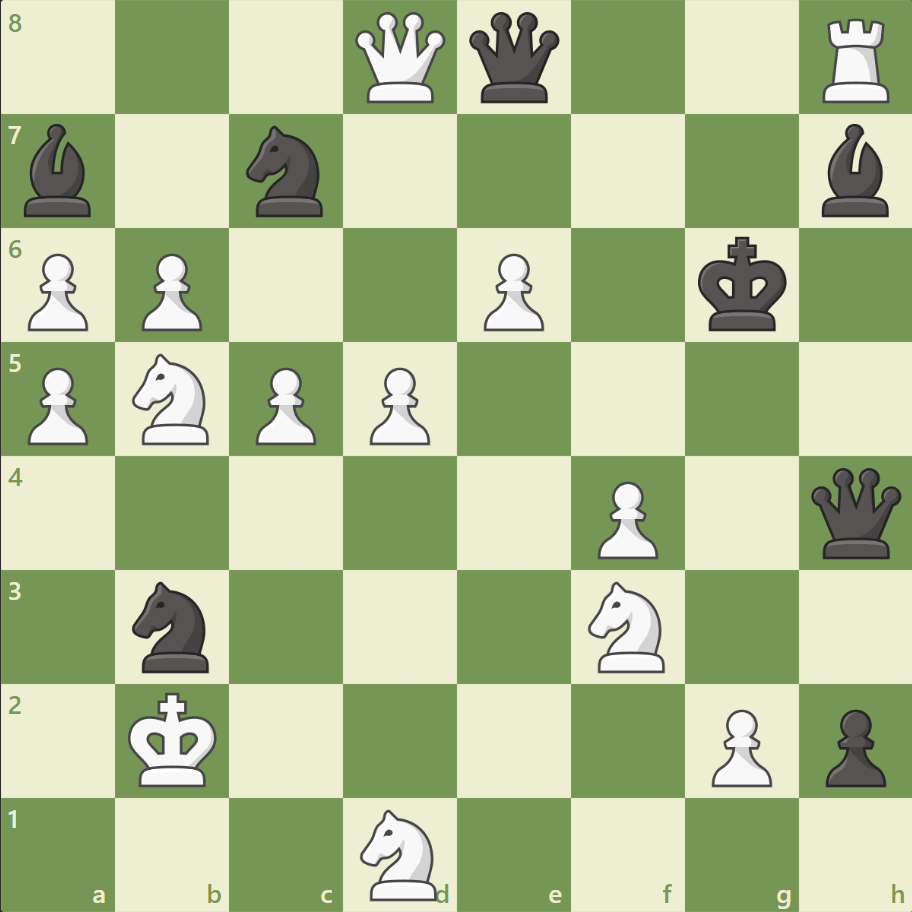K: (124, 685, 224, 793)
N: (124, 348, 222, 450), (351, 802, 449, 904), (579, 575, 676, 677)
P: (20, 246, 95, 337), (133, 246, 208, 337), (474, 246, 549, 337), (20, 359, 95, 450), (247, 359, 322, 450), (701, 700, 776, 791), (361, 359, 435, 450), (588, 473, 662, 564)
Q: (351, 9, 450, 108)
R: (814, 12, 897, 109)
b: (17, 120, 101, 222), (812, 120, 896, 222)
k: (692, 231, 792, 339)
n: (124, 575, 222, 677), (238, 121, 335, 223)
p: (815, 700, 889, 791)
q: (464, 9, 563, 108), (805, 463, 904, 562)
